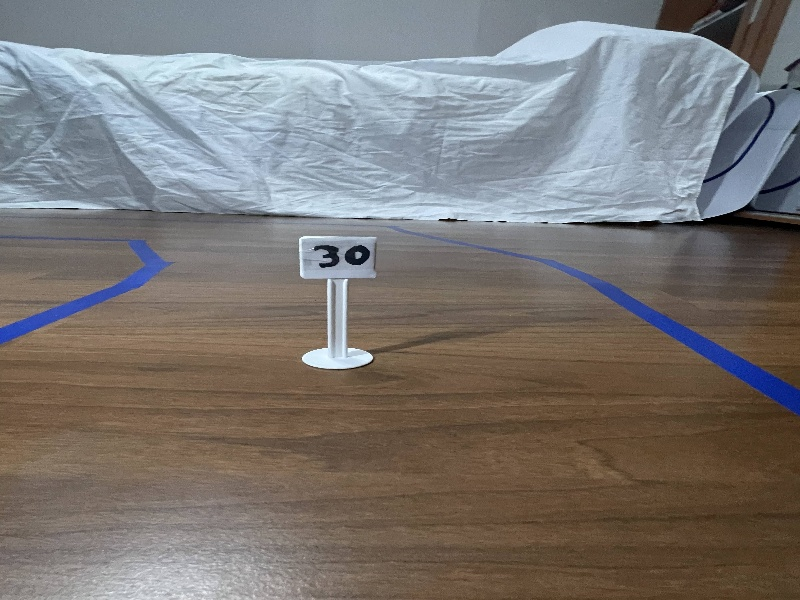viteza_limita_30: (283, 227, 393, 290)
